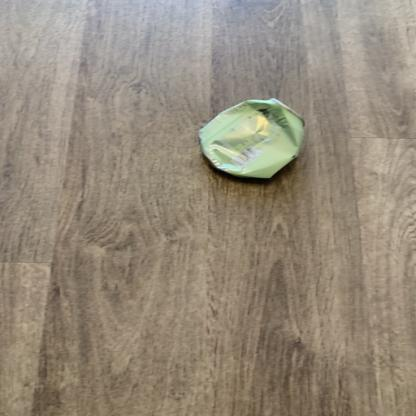trash: (192, 89, 314, 209)
